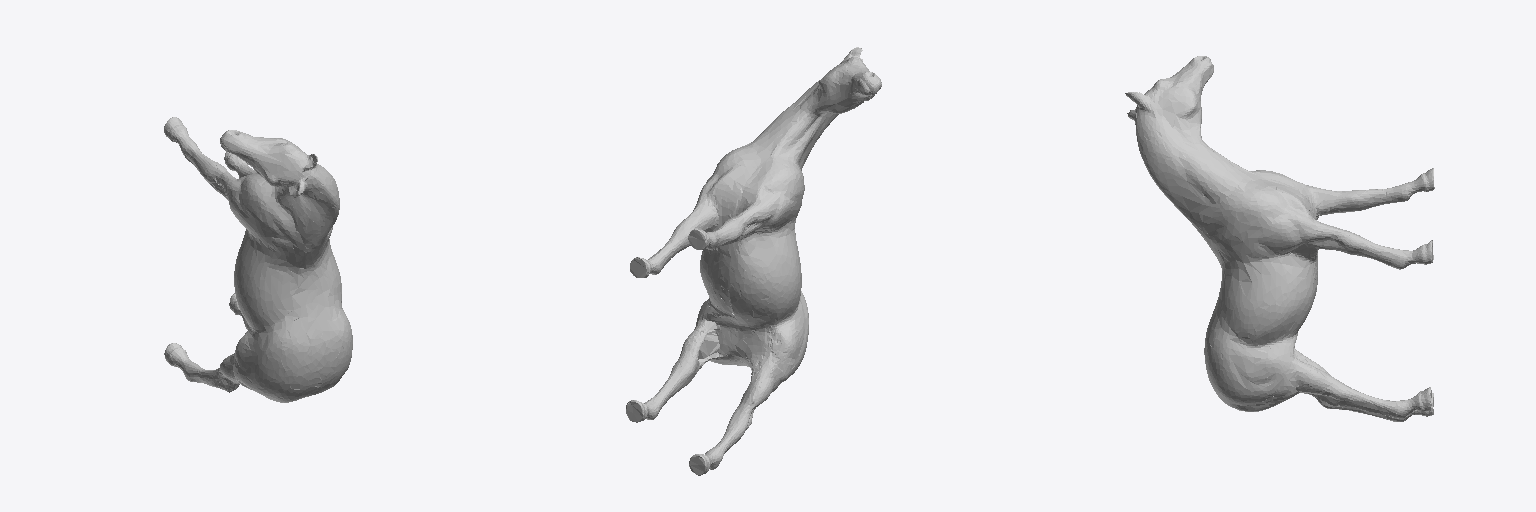
The model's file is horse_simplified_40000.obj.
3 renders of one model, left to right at view 1: azimuth 30°, elevation 25°; view 2: azimuth 150°, elevation 25°; view 3: azimuth 270°, elevation 25°, orthographic.
Bounding box in the file's own units: 0.9159 × 2 × 1.67.